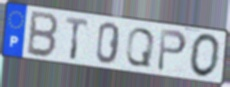0: (94, 21, 121, 66)
B: (25, 9, 61, 60)
O: (189, 32, 222, 79)
P: (155, 27, 189, 74)
Q: (124, 27, 157, 69)
T: (64, 16, 90, 62)
